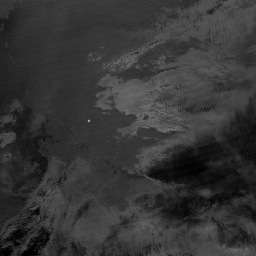Target: (86, 118, 92, 123)
